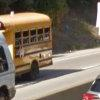Bus: (2, 10, 56, 75)
